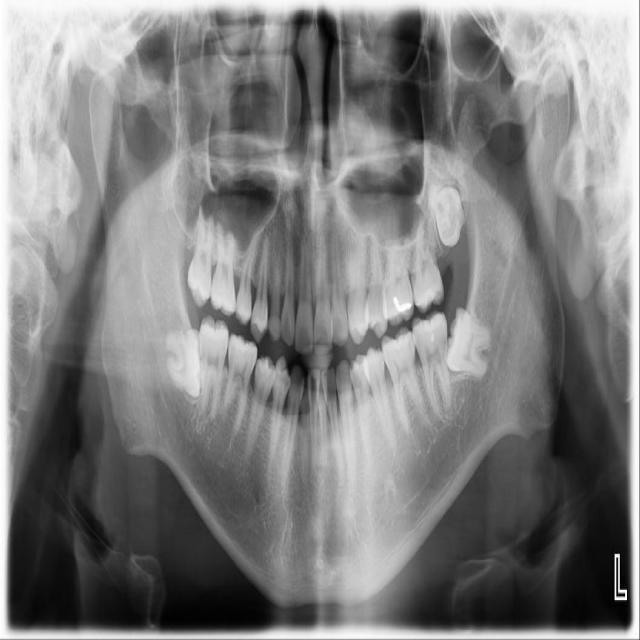52: (406, 307, 456, 357), (378, 276, 417, 329)
73: (611, 560, 623, 580)
BioHorizons Implant: (406, 198, 446, 314)
BioLife Implant: (425, 178, 472, 251)
Biomet 3i Implant: (440, 305, 498, 378)
Blue Sky Bio Implant: (410, 308, 452, 418)
Caries: (186, 200, 216, 307)
Implant: (199, 314, 229, 421)
Keystone Dental Implant: (164, 328, 206, 401)
